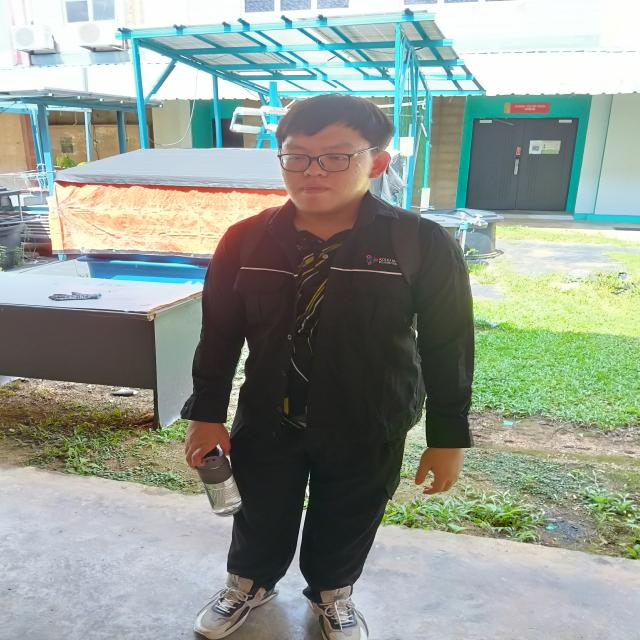person_with_labcoat: (182, 94, 474, 640)
